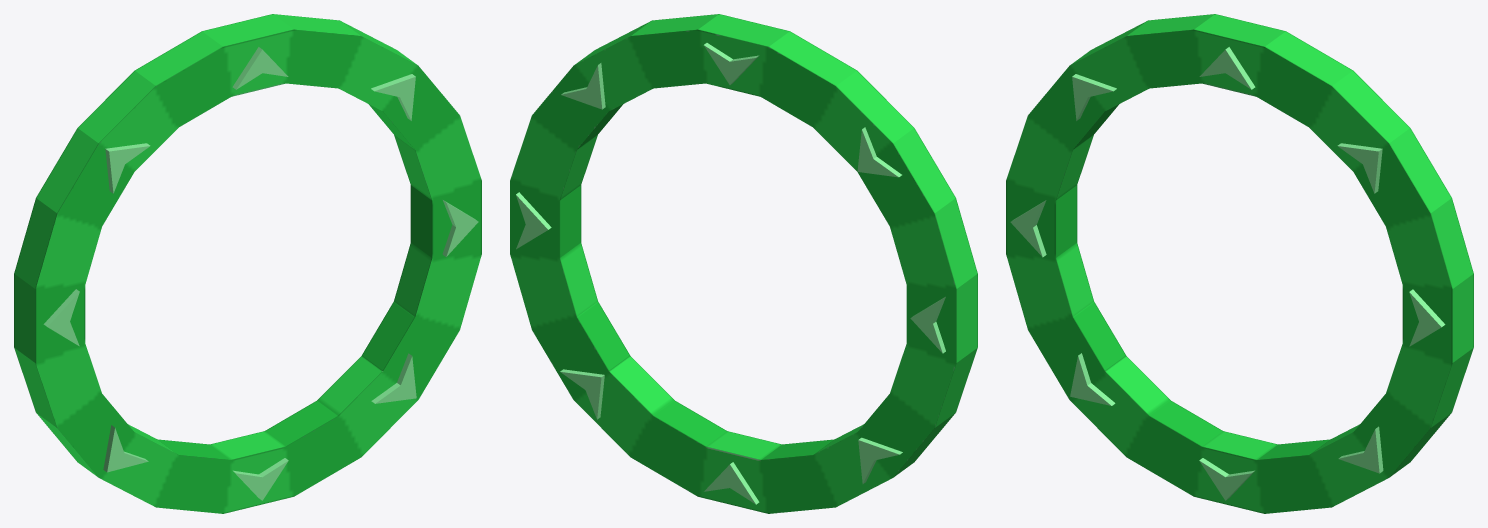
The model's file is checkpointRing.fbx.
3 renders of one model, left to right at view 1: azimuth 30°, elevation 25°; view 2: azimuth 150°, elevation 25°; view 3: azimuth 330°, elevation 25°, orthographic.
Visible parts, largest first — view 1: cylinder, cuboid_16, cuboid_9, cuboid_11, cuboid_10, cuboid_15, cuboid_12, cuboid_14, cuboid_13; view 2: cylinder, cuboid; view 3: cylinder, cuboid_10, cuboid_11, cuboid_9, cuboid_16, cuboid_14, cuboid_12, cuboid_13, cuboid_15.
Part boxes in pixels (x1,y1,x2,y2): cylinder: (14, 14, 481, 513); cuboid_16: (105, 143, 150, 193); cuboid_9: (371, 353, 416, 403); cuboid_11: (103, 425, 148, 472); cuboid_10: (371, 74, 415, 120); cuboid_15: (442, 200, 478, 256); cuboid_12: (232, 47, 288, 89); cuboid_14: (43, 289, 79, 346); cuboid_13: (233, 458, 288, 500); cylinder: (510, 14, 977, 513); cuboid: (516, 43, 945, 504); cylinder: (1006, 14, 1473, 513); cuboid_10: (1337, 143, 1382, 193); cuboid_11: (1070, 353, 1115, 405); cuboid_9: (1338, 426, 1383, 473); cuboid_16: (1072, 74, 1116, 120); cuboid_14: (1010, 200, 1046, 257); cuboid_12: (1199, 47, 1255, 89); cuboid_13: (1199, 458, 1254, 500); cuboid_15: (1409, 289, 1445, 346).
Bounding box in the file's own units: 450 × 450 × 50.
